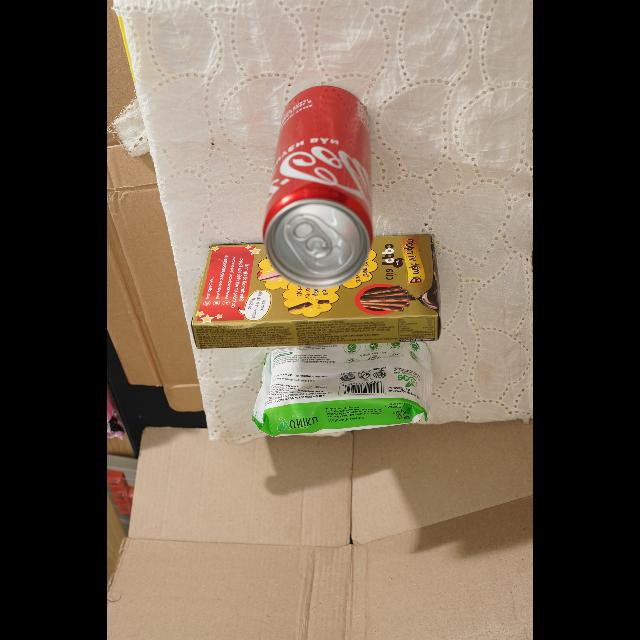banh_toppo_socola: (193, 235, 441, 349)
coca_cola: (263, 86, 373, 288)
khan_giay: (253, 341, 433, 436)
